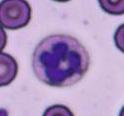N: (30, 34, 90, 87)
